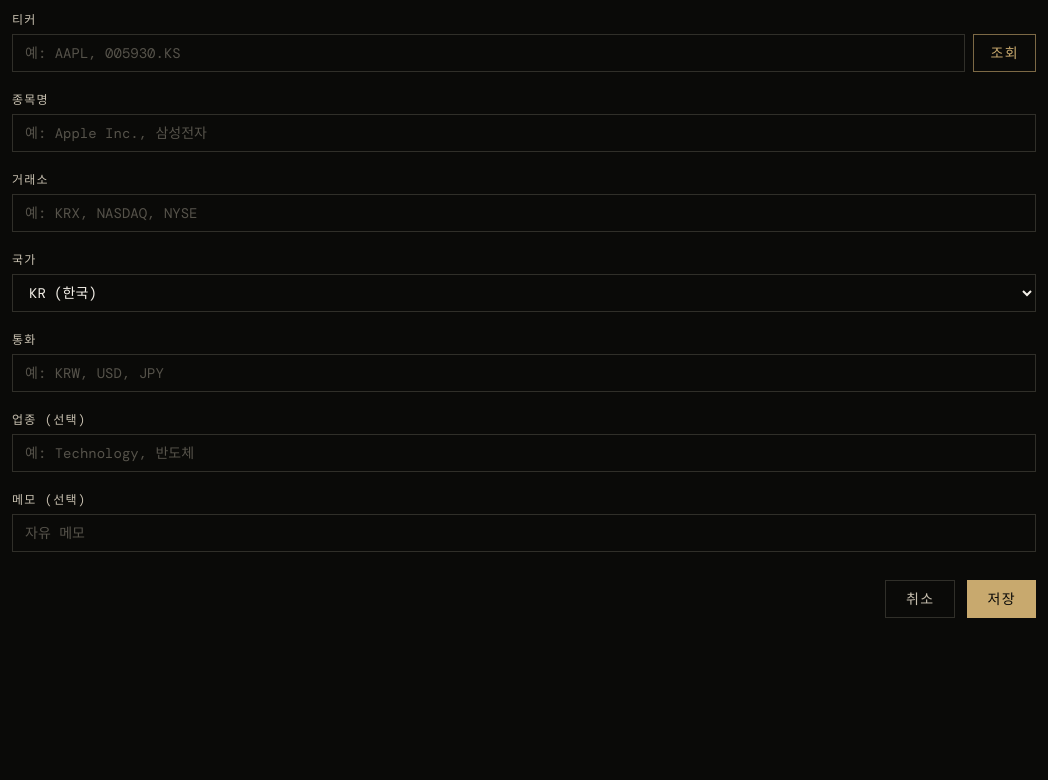
Test: StockForm › FE-24: lookup 빈 배열 → lookupError 메시지 표시
Step 1. Type "UNKNOWN" into the field labelled "티커" → (489, 53), box left=12, top=34, right=965, bottom=72
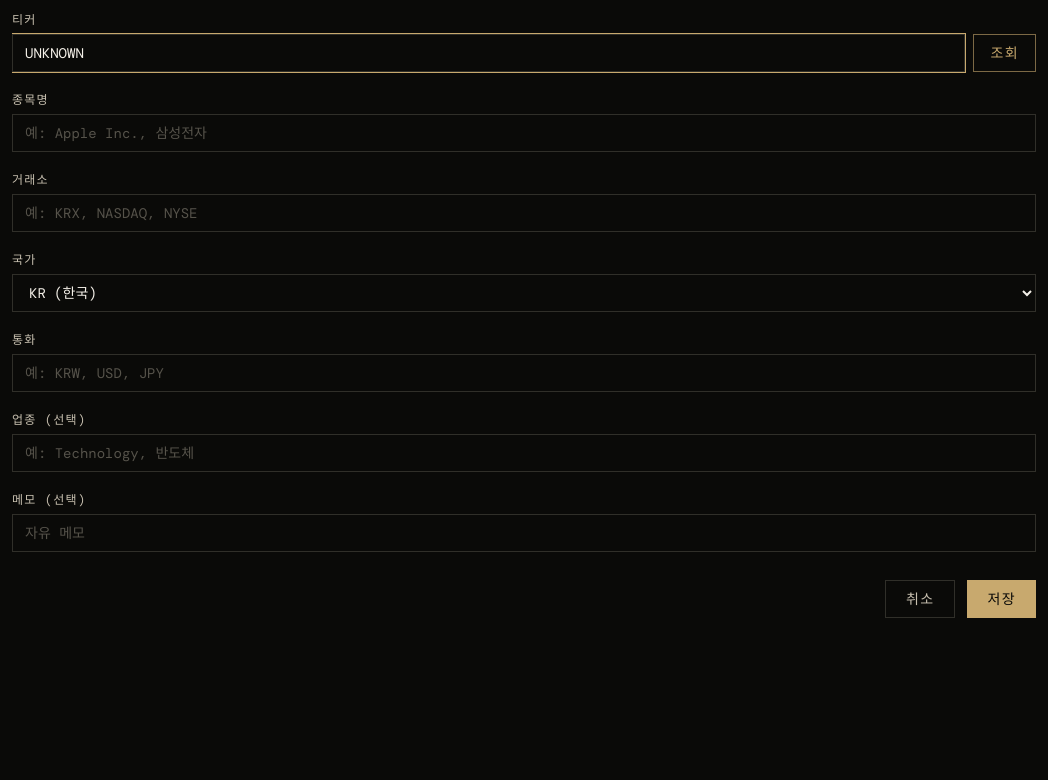
Step 2. Click the button "조회" → (1005, 53), box left=973, top=34, right=1036, bottom=72
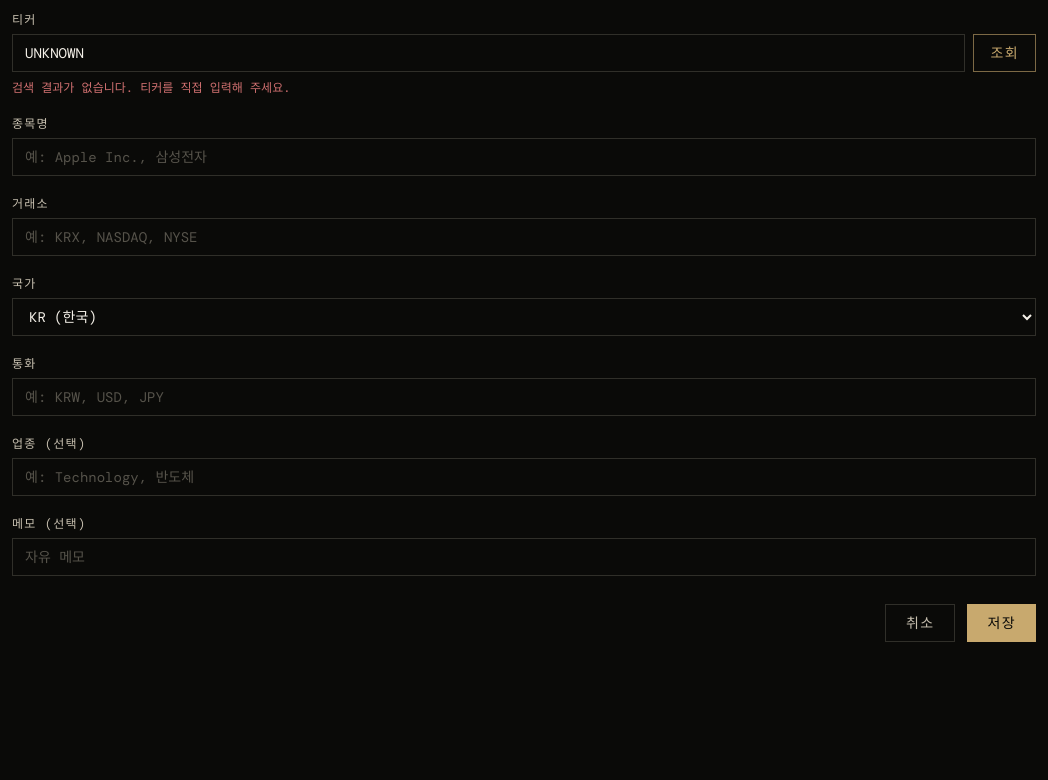
Now the text "검색 결과가 없습니다. 티커를 직접 입력해 주세요." is shown, box left=12, top=80, right=290, bottom=96
